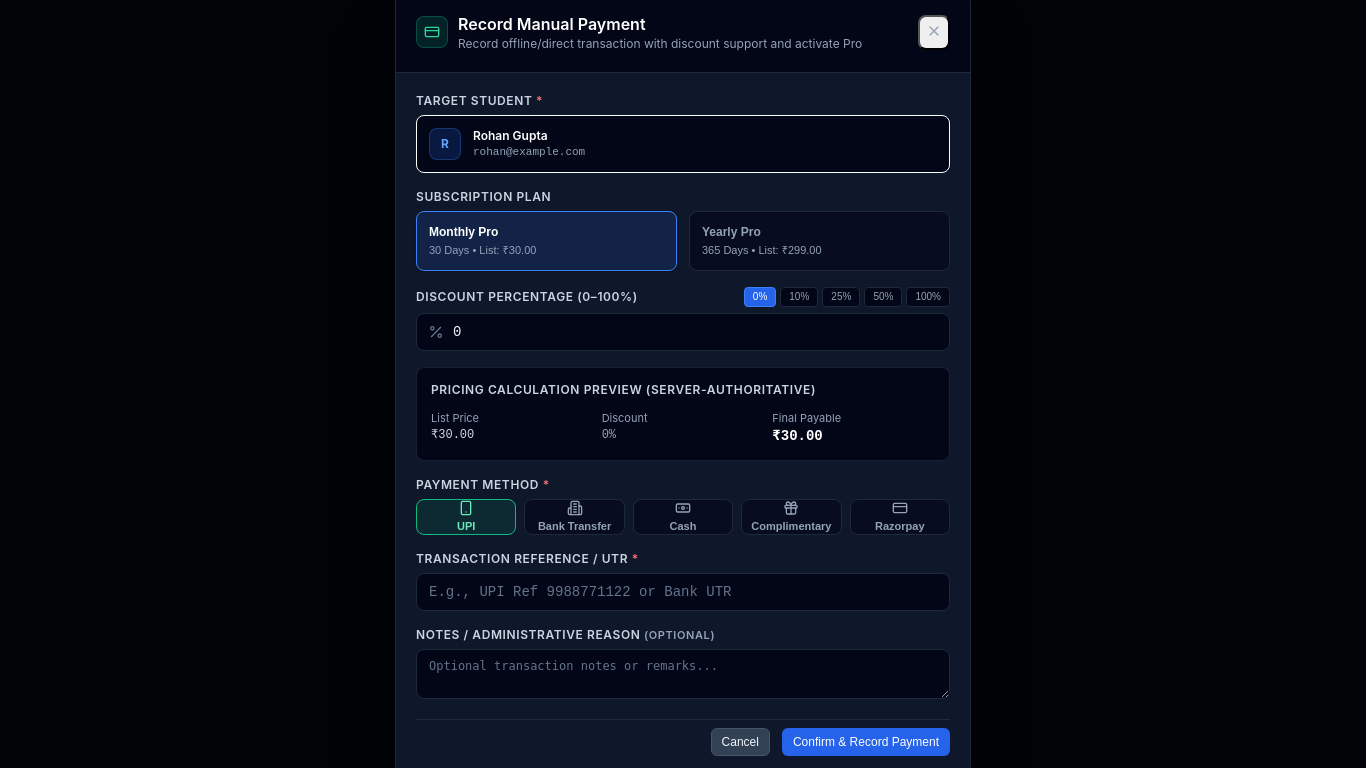
Test case: RecordPaymentModal Component Tests › 7. displays live calculation preview when discount preset is selected
Expected: the text "Pricing Calculation Preview (Server-Authoritative)" is shown, [431, 382, 816, 397]
// Click 50% preset
What coordinates should you click on to do the following:
click the button "50%"
I would click on:
 (883, 297)
Its box is [864, 287, 902, 307].
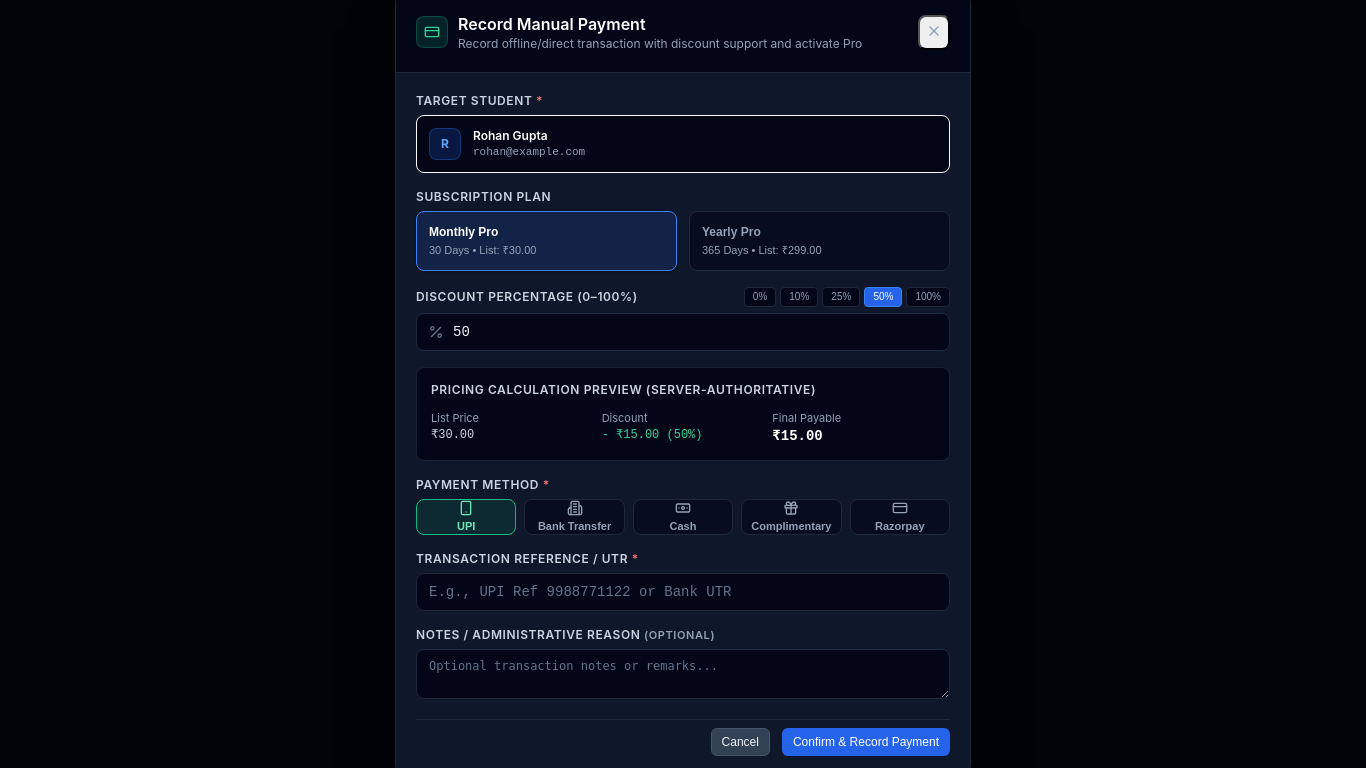
Expected: the text "- ₹15.00 (50%)" is shown, [602, 428, 702, 442]
Expected: the text "₹15.00" is shown, [772, 428, 823, 444]
